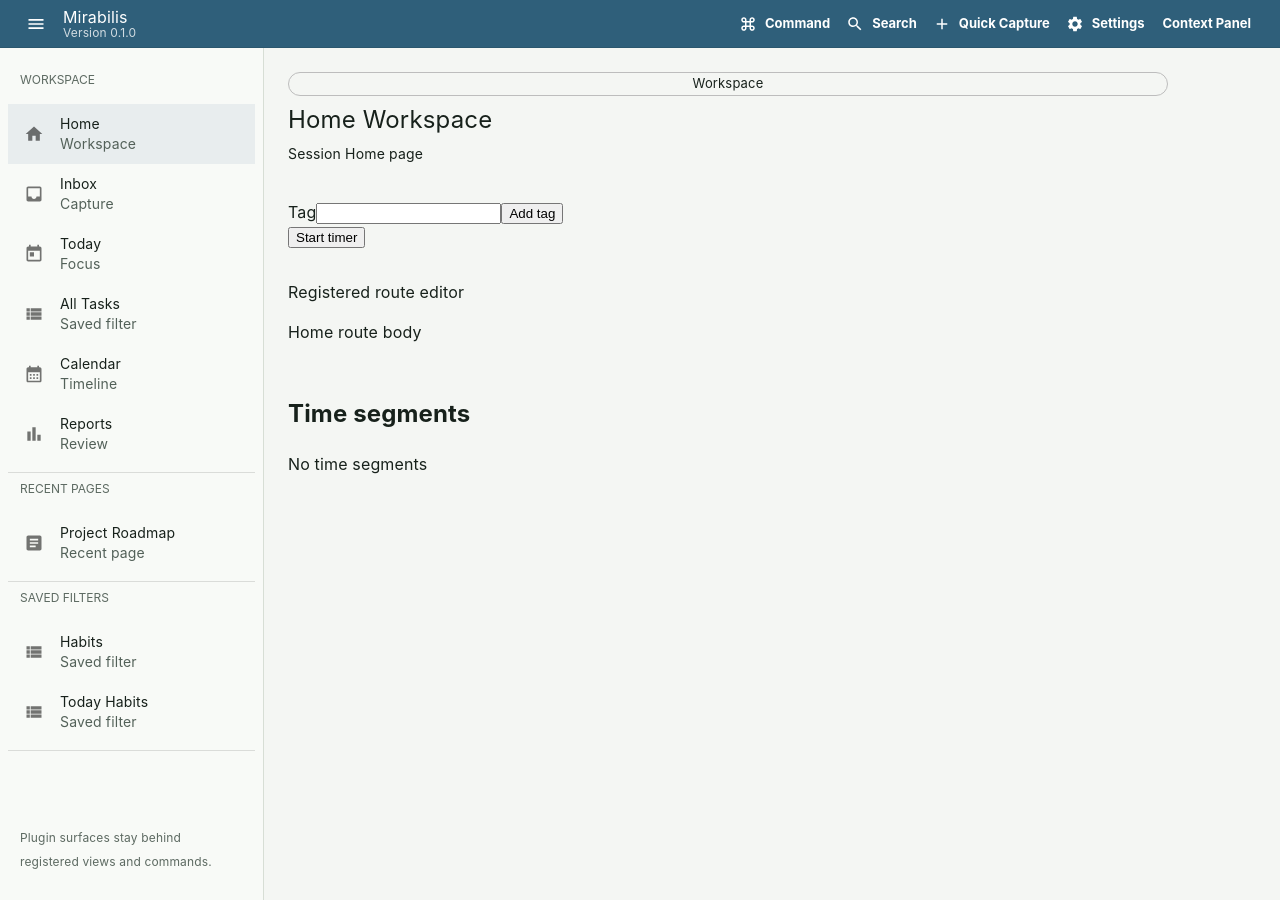
Test: TASK-038 sidebar page and saved-filter navigation › keeps Recent pages visible on filter routes and opens a recent page through the registered editor
Click the button "Today Focus" at (63,254), box x1=24 y1=235 x2=101 y2=272
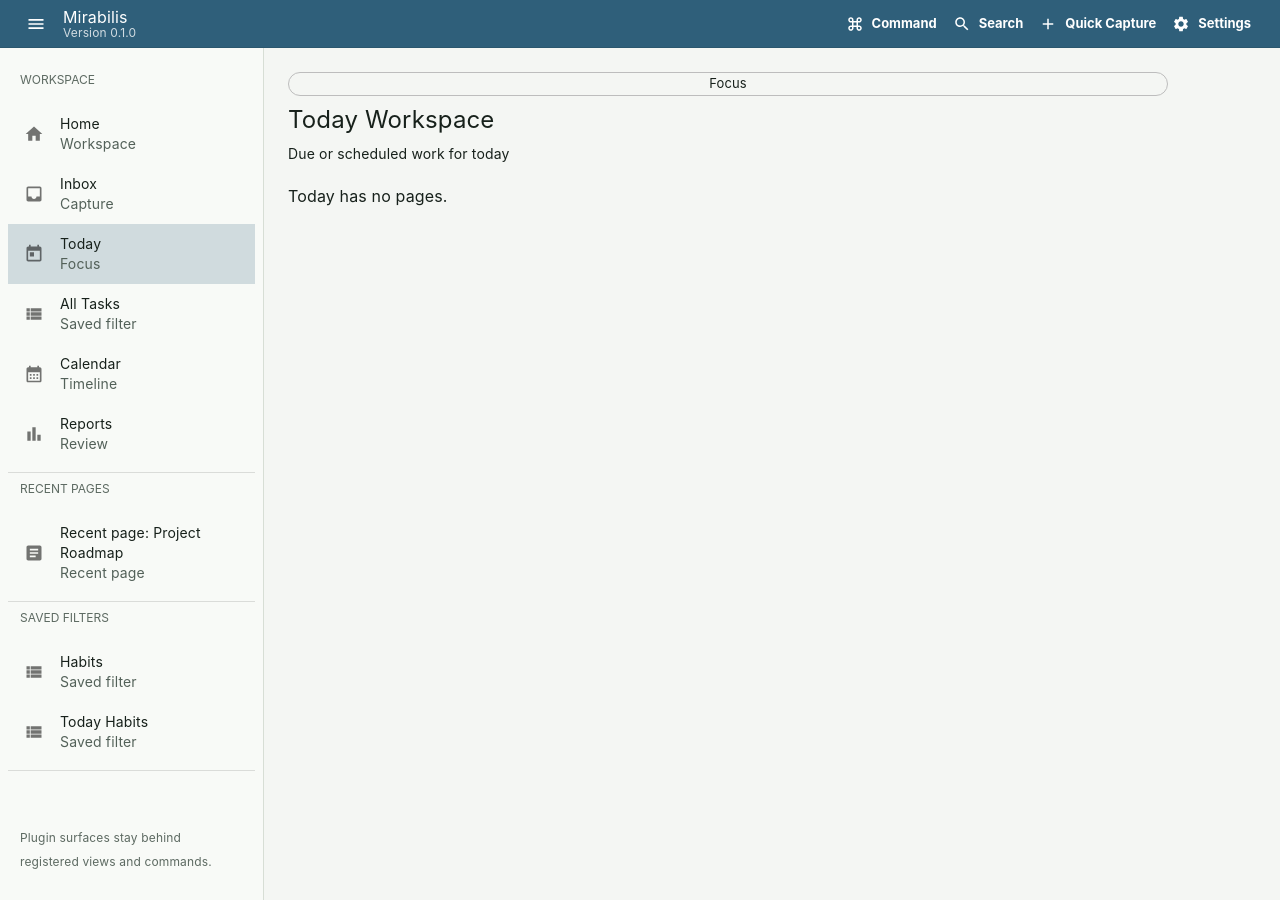
Expected: the text "Recent pages" is shown, x1=20 y1=481 x2=110 y2=496
Click the button "Recent page: Project Roadmap Recent page" at (112,552), box x1=24 y1=524 x2=201 y2=581
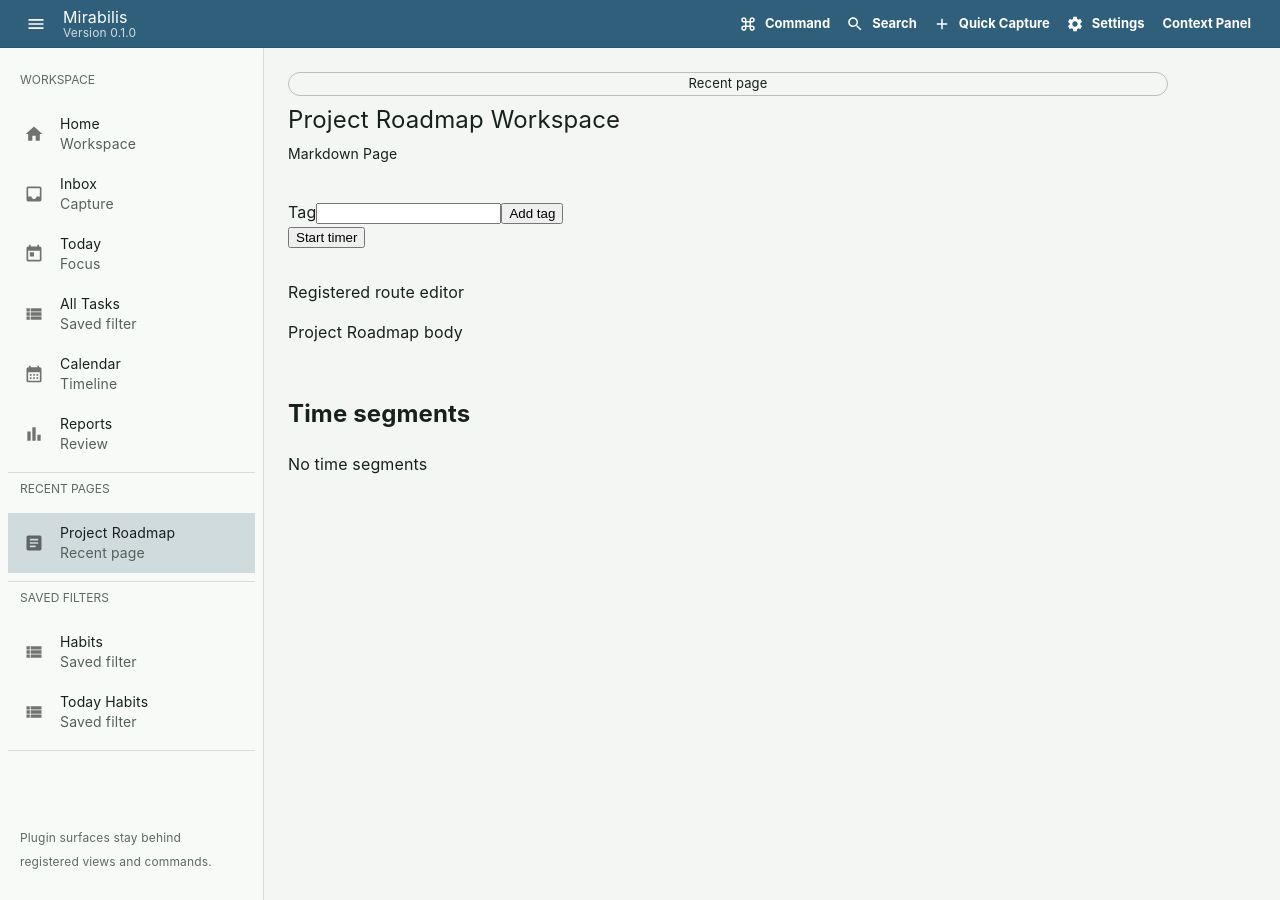
Now the text "Project Roadmap body" is shown, box x1=288 y1=322 x2=463 y2=342
